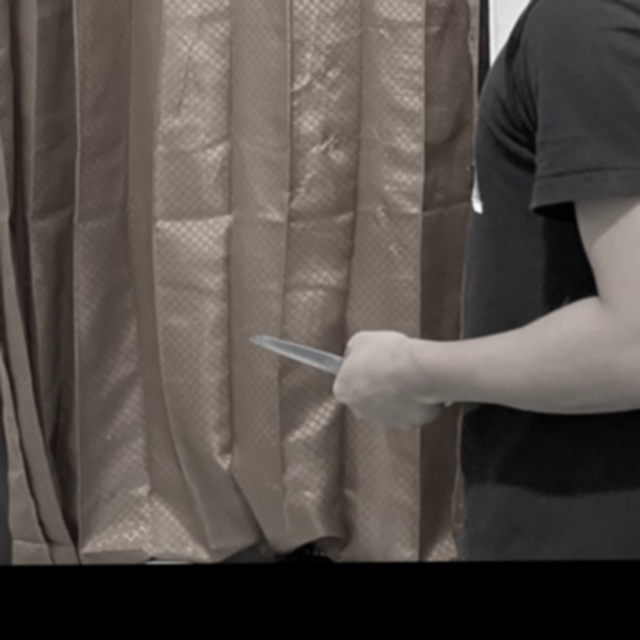Sharp-Object: (247, 332, 349, 378)
